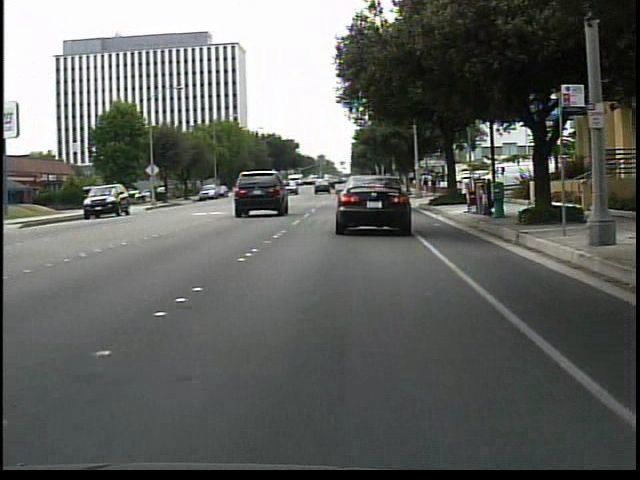person: (421, 173, 431, 195), (430, 174, 439, 194)
